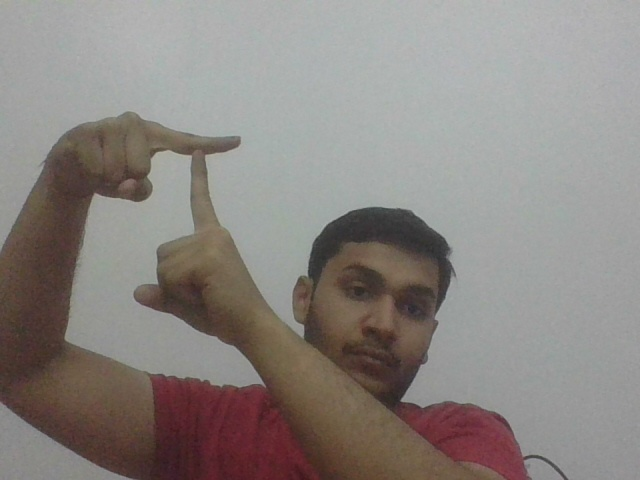T: (157, 117, 246, 230)
